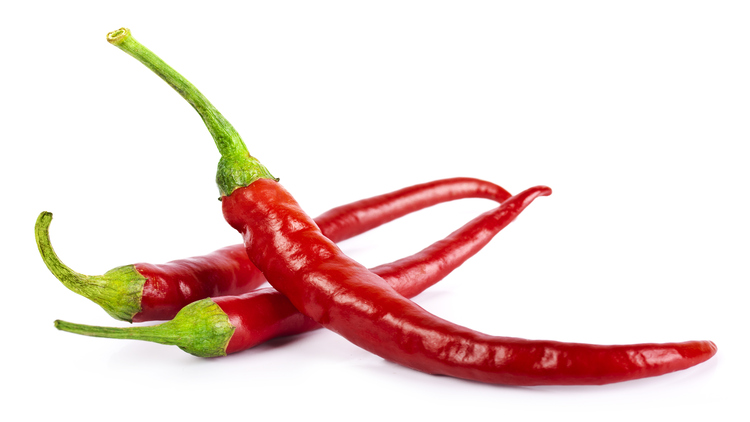Cabai: (22, 13, 725, 396)
